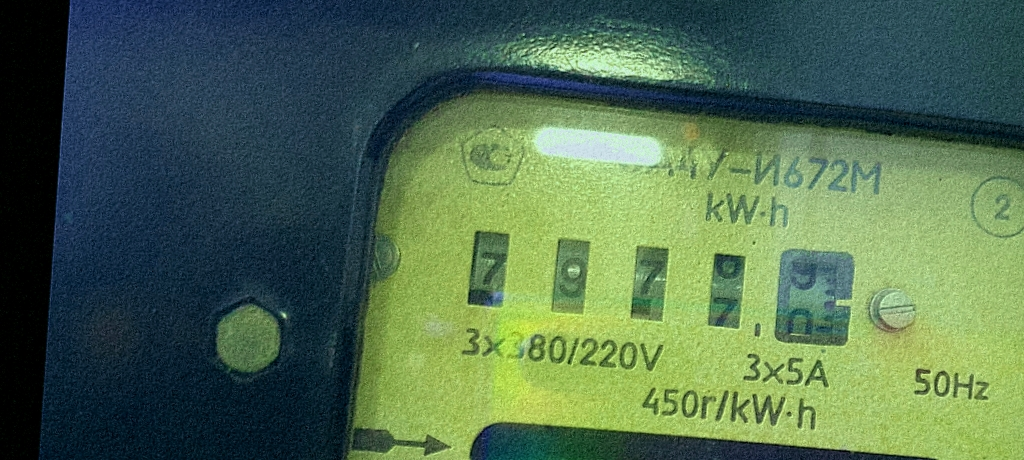0: (782, 302, 818, 342)
7: (475, 247, 508, 292), (634, 255, 667, 299), (708, 293, 740, 331)
9: (554, 253, 591, 301), (787, 255, 821, 292)
screen: (445, 206, 881, 371)
